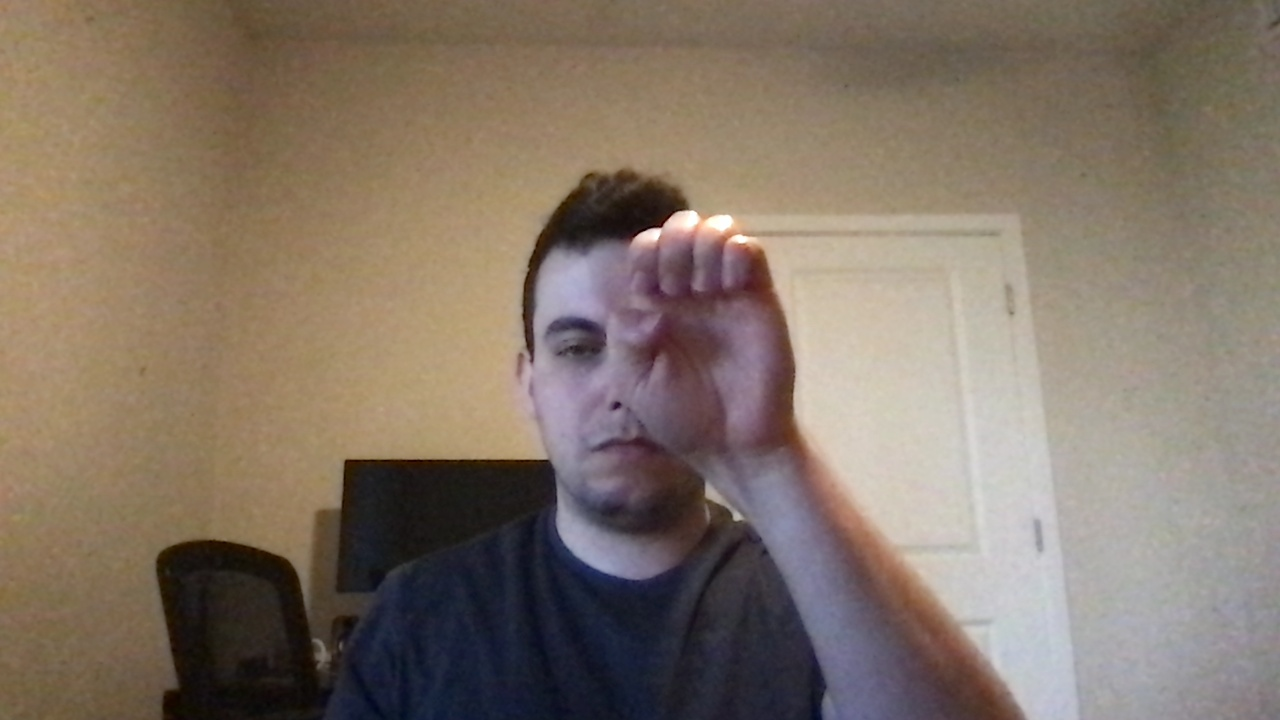e: (594, 200, 834, 477)
